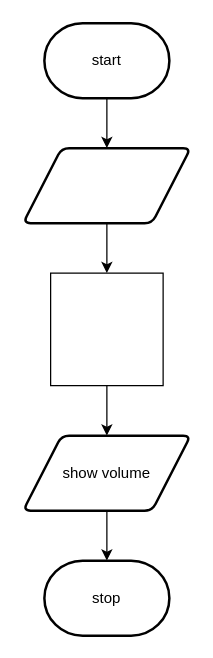
Some shapes in this 213 by 658 pixel diagram are drawn without their labels. Each missing label, with the centre of its shape:
enter length of radius: point (106, 185)
volume = 4/3 * π * radius ³: point (106, 329)
